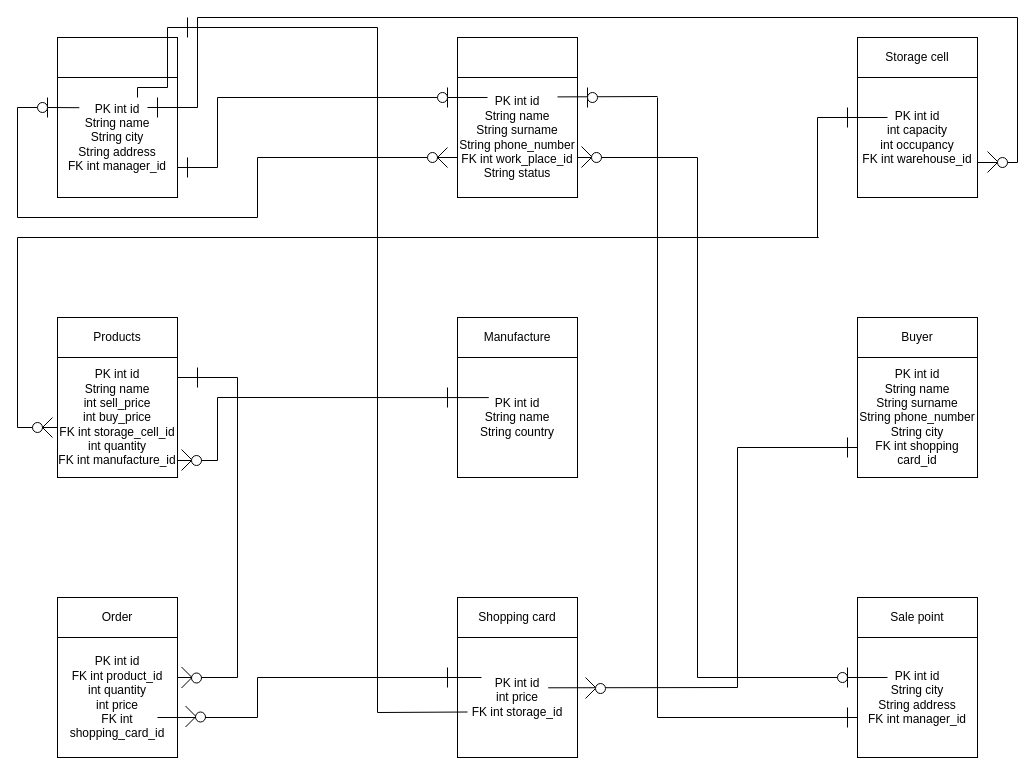
Some shapes in this 1036 by 775 pixel diagram are drawn without their labels. The box of each missing label's shape, as (x1, y1, x2, y2) in pixels:
Warehouse: (56, 36, 178, 78)
Worker: (456, 36, 578, 78)
